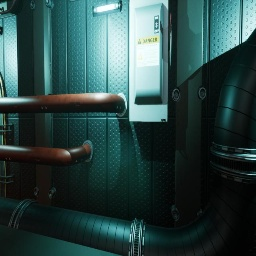SafetySwitchPanel ,: (129, 0, 171, 122)
